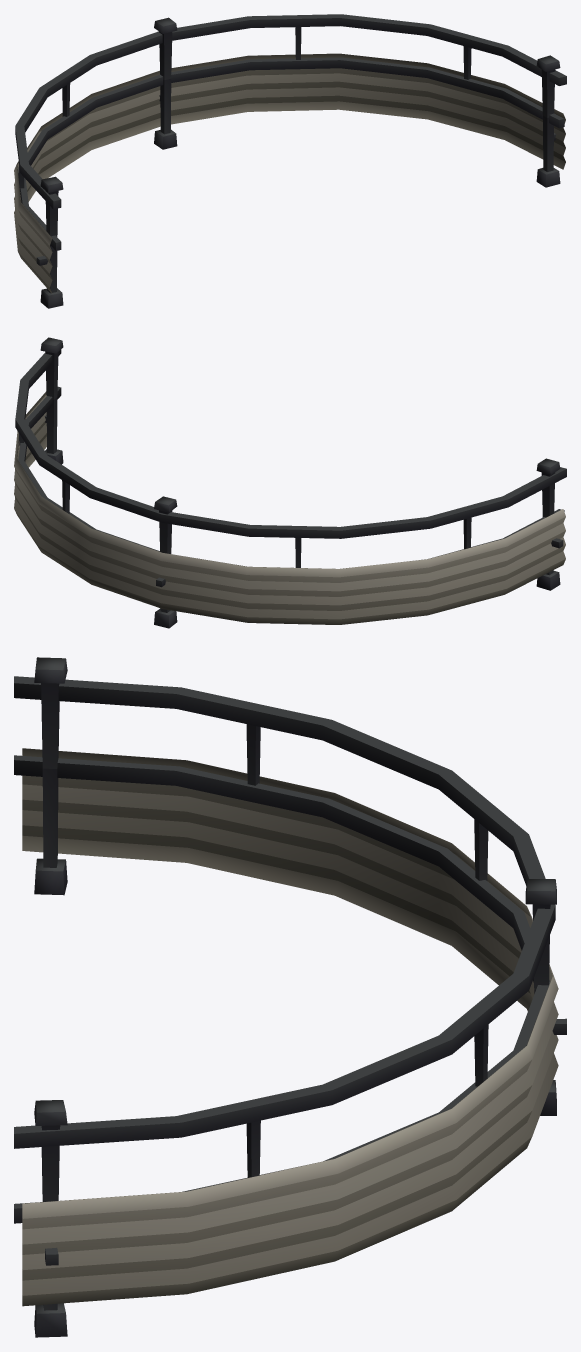
Rendered from Fence_3A.fbx.
3 views of the same model, one above another, from view 1: azimuth 30°, elevation 25°; view 2: azimuth 150°, elevation 25°; view 3: azimuth 270°, elevation 25° (orthographic). The views are drawn at different scales.
Parts seen in each view (by area): view 1: Fence_3A; view 2: Fence_3A; view 3: Fence_3A.
Boxes of the visible parts, x1,y1,x2,y2 form: Fence_3A: (14,14,566,308); Fence_3A: (14,337,566,628); Fence_3A: (14,657,566,1337).
Size of the model in its own units: 1951 by 437 by 977.
